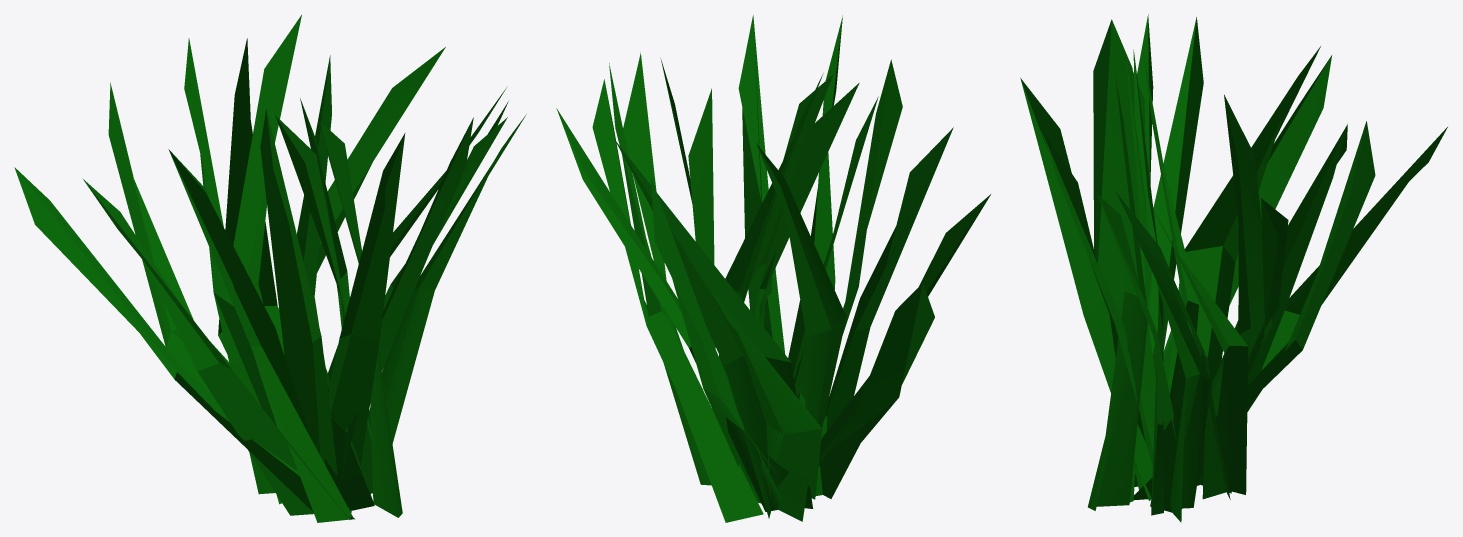
The model's file is grass.fbx.
3 renders of one model, left to right at view 1: azimuth 30°, elevation 25°; view 2: azimuth 150°, elevation 25°; view 3: azimuth 270°, elevation 25°, orthographic.
Visible parts, largest first — view 1: grass; view 2: grass; view 3: grass.
Boxes of the visible parts, <box> form: grass: <box>14,15,526,522</box>; grass: <box>556,15,990,522</box>; grass: <box>1020,14,1447,522</box>.
Bounding box in the file's own units: 74.2 × 73.78 × 66.68.
